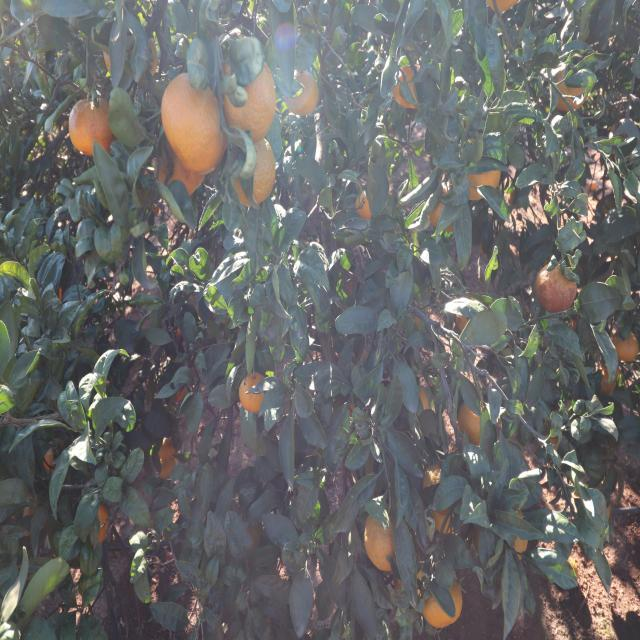Jeruk Sudah Matang: (162, 70, 231, 174), (223, 60, 278, 142), (233, 128, 275, 210), (154, 136, 210, 194), (65, 98, 118, 152), (366, 507, 398, 571), (423, 582, 463, 625), (284, 69, 320, 116), (462, 168, 502, 206), (392, 62, 420, 111), (237, 372, 271, 411), (428, 184, 453, 236), (558, 72, 589, 110), (457, 402, 483, 447), (350, 190, 375, 224), (616, 328, 638, 362), (93, 502, 109, 544), (487, 0, 526, 17), (158, 434, 176, 458), (160, 458, 177, 478), (174, 382, 188, 400)
